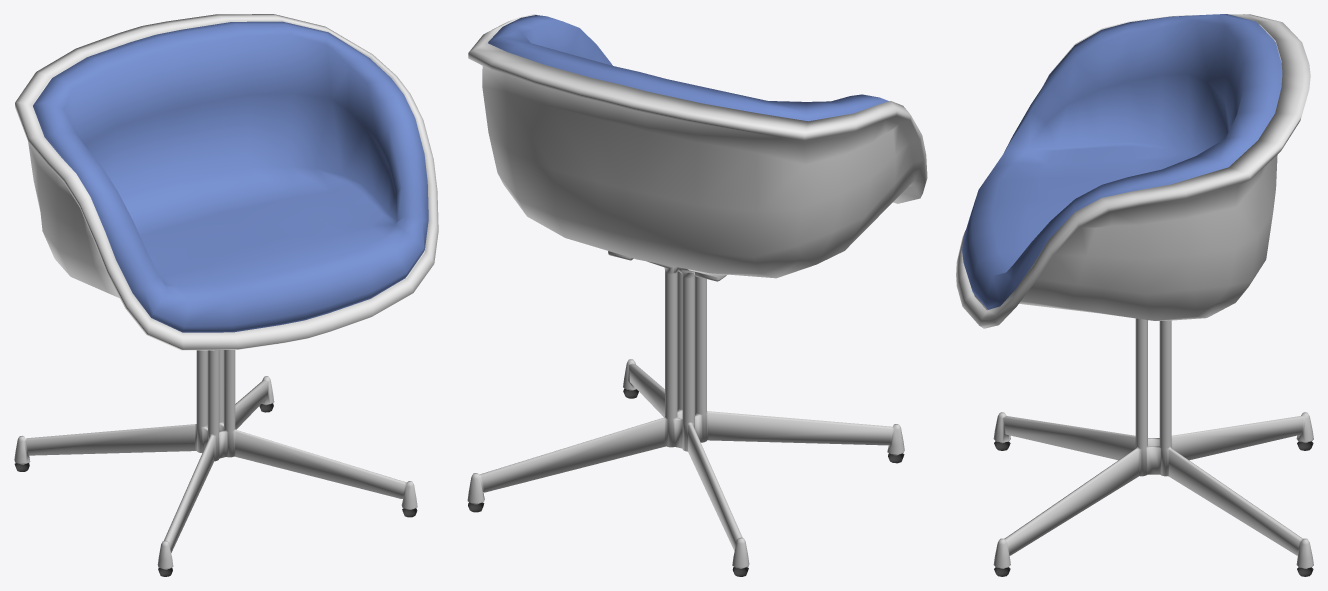
The model's file is modern_armchair.glb.
3 views of the same model, side by side, from view 1: azimuth 30°, elevation 25°; view 2: azimuth 150°, elevation 25°; view 3: azimuth 270°, elevation 25° (orthographic). The views are drawn at different scales.
Parts seen in each view (by area): view 1: seat_Plane, legs_Cylinder; view 2: seat_Plane, legs_Cylinder; view 3: seat_Plane, legs_Cylinder.
Boxes of the visible parts, x1,y1,x2,y2 form: seat_Plane: (15,14,438,350); legs_Cylinder: (14,350,417,576); seat_Plane: (468,14,927,278); legs_Cylinder: (467,251,904,576); seat_Plane: (956,14,1310,328); legs_Cylinder: (993,318,1313,576).
Size of the model in its own units: 0.8071 by 0.922 by 0.6786.
